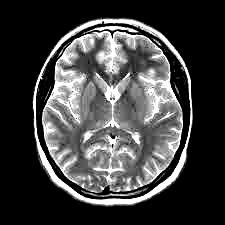Normal_Brain: (4, 5, 225, 225)
